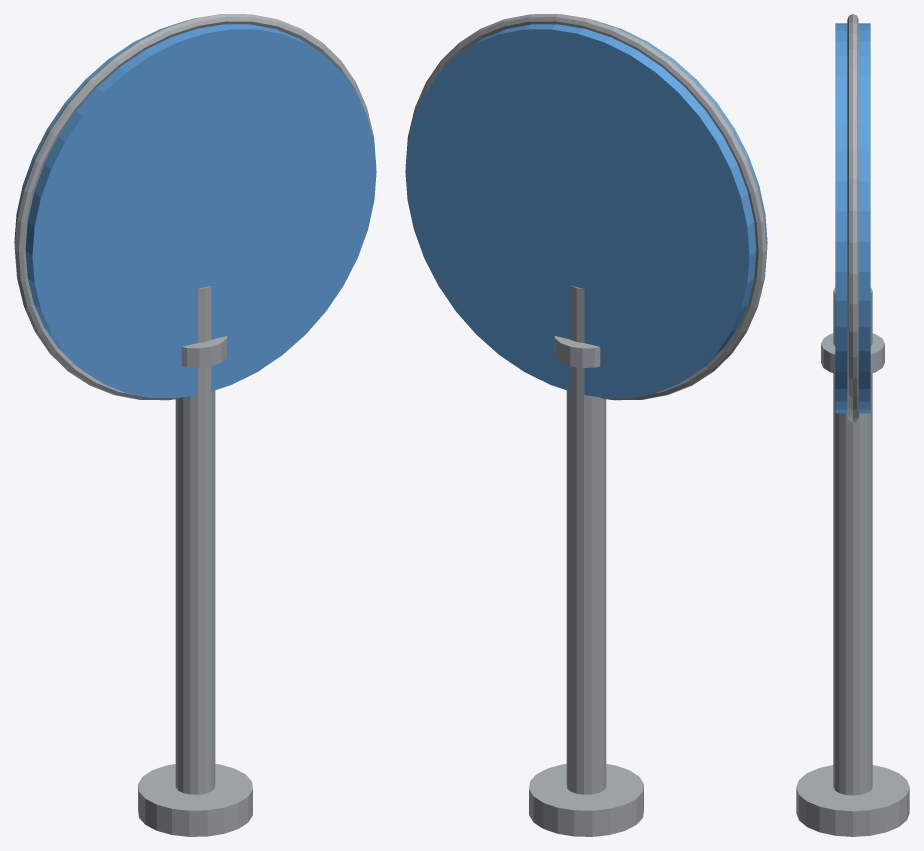
File: state-fair-pin-accessible-companion-restroom.glb
3 renders of one model, left to right at view 1: azimuth 30°, elevation 25°; view 2: azimuth 150°, elevation 25°; view 3: azimuth 270°, elevation 25°, orthographic.
Visible parts, largest first — view 1: SFPIN_SignDisc, SFPIN_Post, SFPIN_Rim, SFPIN_Base, SFPIN_Collar; view 2: SFPIN_SignDisc, SFPIN_Post, SFPIN_Rim, SFPIN_Base, SFPIN_Collar; view 3: SFPIN_Post, SFPIN_SignDisc, SFPIN_Base, SFPIN_Rim, SFPIN_Collar.
Part boxes in pixels (x1=…): SFPIN_SignDisc: x1=14, y1=20, x2=376, y2=397; SFPIN_Post: x1=175, y1=286, x2=215, y2=794; SFPIN_Rim: x1=14, y1=14, x2=376, y2=400; SFPIN_Base: x1=138, y1=764, x2=252, y2=836; SFPIN_Collar: x1=181, y1=336, x2=227, y2=367; SFPIN_SignDisc: x1=405, y1=20, x2=767, y2=397; SFPIN_Post: x1=566, y1=286, x2=606, y2=794; SFPIN_Rim: x1=405, y1=14, x2=767, y2=400; SFPIN_Base: x1=529, y1=764, x2=643, y2=836; SFPIN_Collar: x1=554, y1=336, x2=600, y2=367; SFPIN_Post: x1=833, y1=287, x2=872, y2=795; SFPIN_SignDisc: x1=835, y1=23, x2=870, y2=413; SFPIN_Base: x1=796, y1=765, x2=909, y2=836; SFPIN_Rim: x1=847, y1=14, x2=858, y2=422; SFPIN_Collar: x1=821, y1=333, x2=884, y2=373.
Size of the model in its own units: 1.15 by 2.43 by 0.32.
